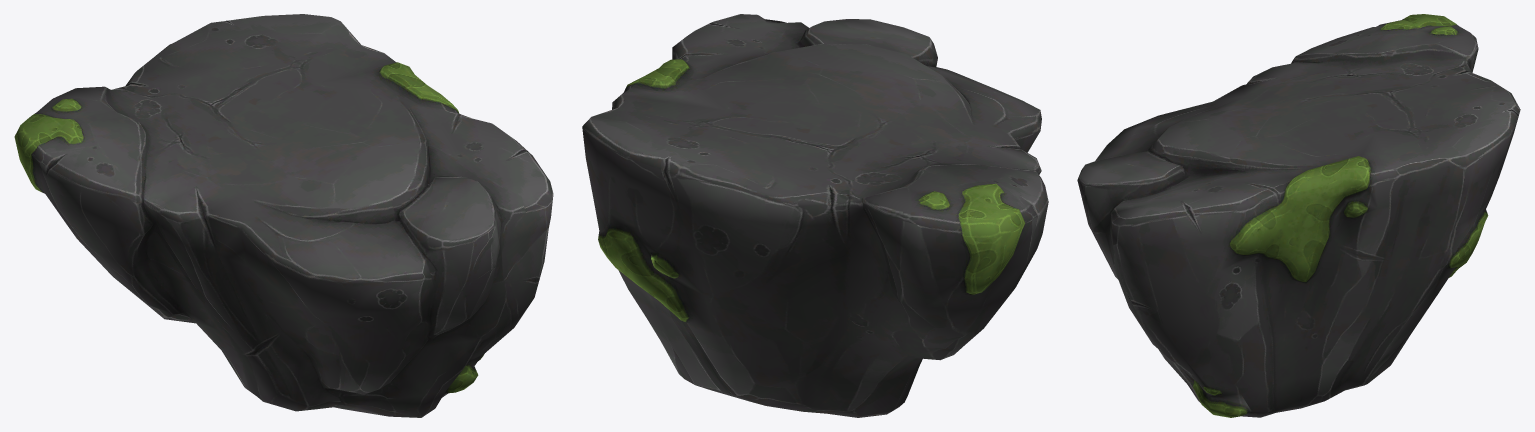
File: roca.fbx
The picture shows the model from 3 angles, left to right: view 1: azimuth 30°, elevation 25°; view 2: azimuth 150°, elevation 25°; view 3: azimuth 270°, elevation 25°; orthographic projection. The views are drawn at different scales.
Parts seen in each view (by area): view 1: node_id11; view 2: node_id11; view 3: node_id11.
Boxes of the visible parts, bbox=[...] form: node_id11: bbox=[14, 14, 553, 417]; node_id11: bbox=[582, 14, 1048, 417]; node_id11: bbox=[1077, 14, 1520, 417].
Size of the model in its own units: 0.0103 by 0.00739 by 0.0105.
1 material, 1 textured.
